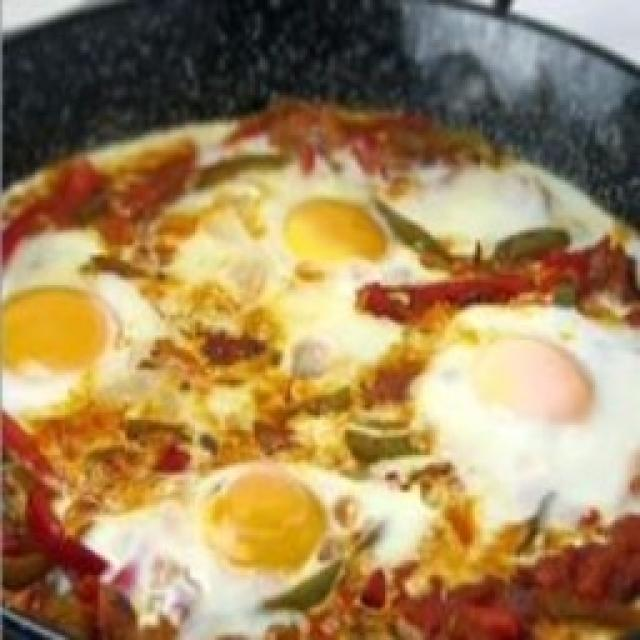Chakchouka: (0, 95, 640, 640)
